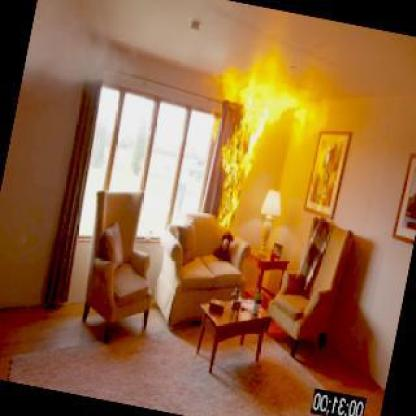Fire: (209, 56, 336, 142), (215, 148, 267, 236)
